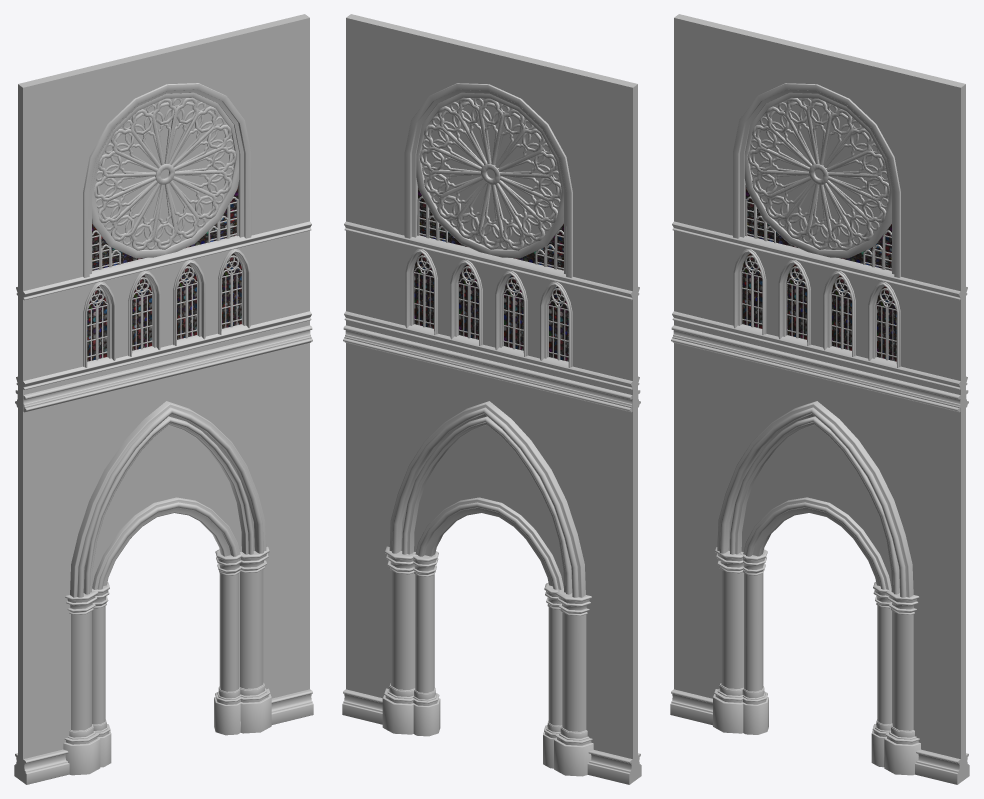
Rendered from Wall_G.fbx.
3 renders of one model, left to right at view 1: azimuth 30°, elevation 25°; view 2: azimuth 150°, elevation 25°; view 3: azimuth 330°, elevation 25°, orthographic.
Visible parts, largest first — view 1: Wall_G, Wall_G_Glass; view 2: Wall_G, Wall_G_Glass; view 3: Wall_G, Wall_G_Glass.
Part boxes in pixels (x1,y1,x2,y2): Wall_G: (14, 14, 313, 784); Wall_G_Glass: (87, 98, 241, 361); Wall_G: (342, 14, 641, 784); Wall_G_Glass: (414, 98, 568, 361); Wall_G: (670, 14, 969, 784); Wall_G_Glass: (742, 98, 896, 361).
Bounding box in the file's own units: 16 × 37 × 2.25.
